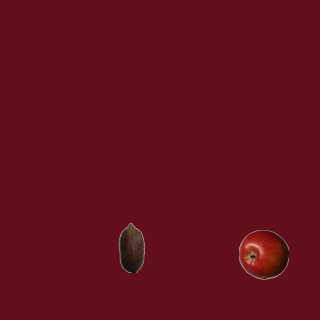Apple Braeburn: (238, 229, 288, 279)
Nut Pecan: (106, 222, 156, 272)
